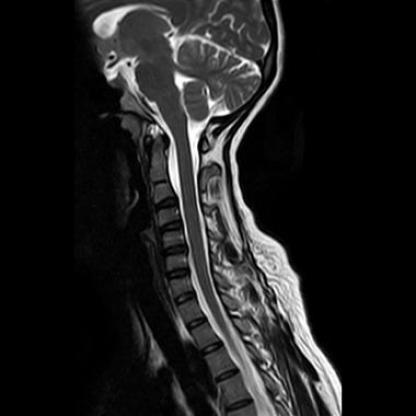Disc Bulgerotation: (165, 268, 192, 281), (161, 245, 188, 257), (172, 291, 196, 304)
